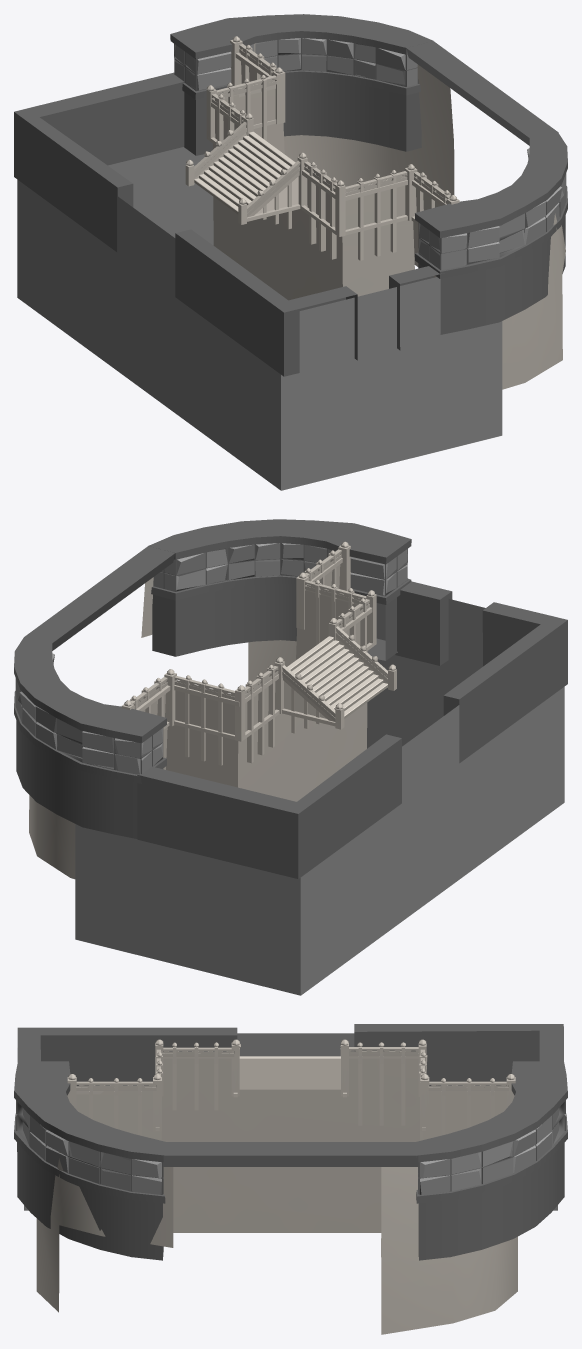
Rendered from lvl_6.fbx.
3 views of the same model, one above another, from view 1: azimuth 30°, elevation 25°; view 2: azimuth 150°, elevation 25°; view 3: azimuth 270°, elevation 25° (orthographic).
Visible parts, largest first — view 1: lvl_6; view 2: lvl_6; view 3: lvl_6.
Boxes of the visible parts, x1=… form: lvl_6: x1=14, y1=14, x2=567, y2=490; lvl_6: x1=14, y1=519, x2=567, y2=995; lvl_6: x1=14, y1=1024, x2=567, y2=1334.
Size of the model in its own units: 2659 by 1671 by 3596.
